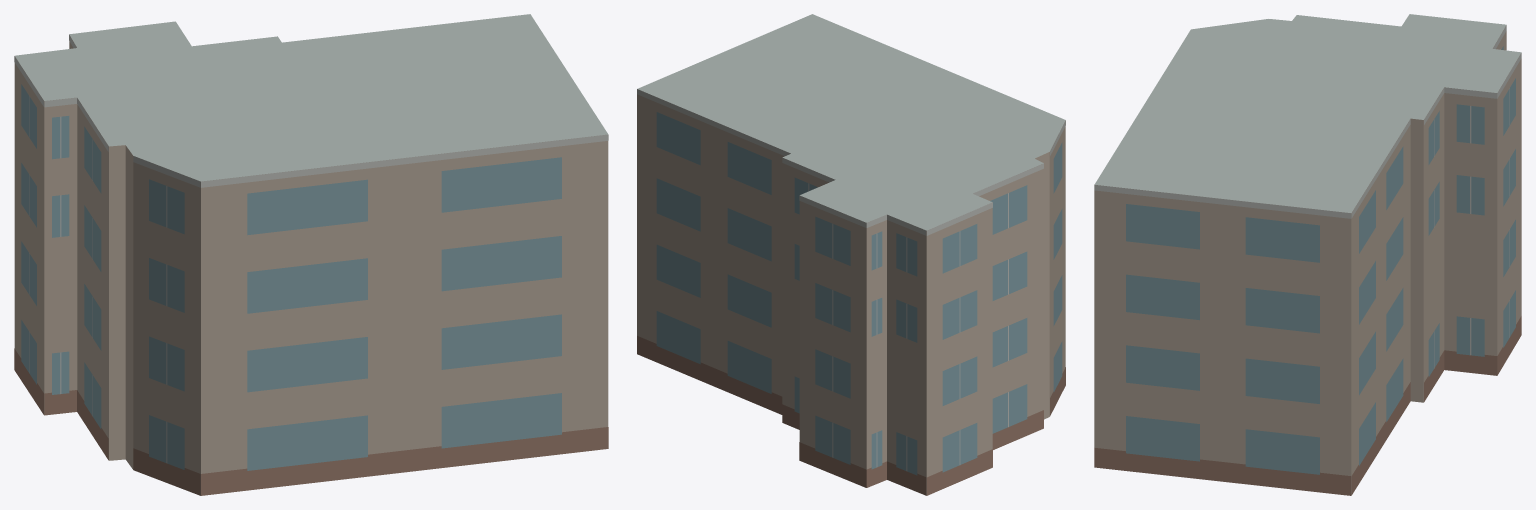
The model's file is survey-upis-32603804.glb.
3 renders of one model, left to right at view 1: azimuth 30°, elevation 25°; view 2: azimuth 150°, elevation 25°; view 3: azimuth 270°, elevation 25°, orthographic. The views are drawn at different scales.
Visible parts, largest first — view 1: survey-upis-32603804.tmp; view 2: survey-upis-32603804.tmp; view 3: survey-upis-32603804.tmp.
Part boxes in pixels (box(x1,y1,x2,y2)): survey-upis-32603804.tmp: box(14, 14, 608, 495); survey-upis-32603804.tmp: box(637, 14, 1065, 495); survey-upis-32603804.tmp: box(1094, 14, 1521, 495).
Size of the model in its own units: 18.28 by 12.09 by 16.57.
